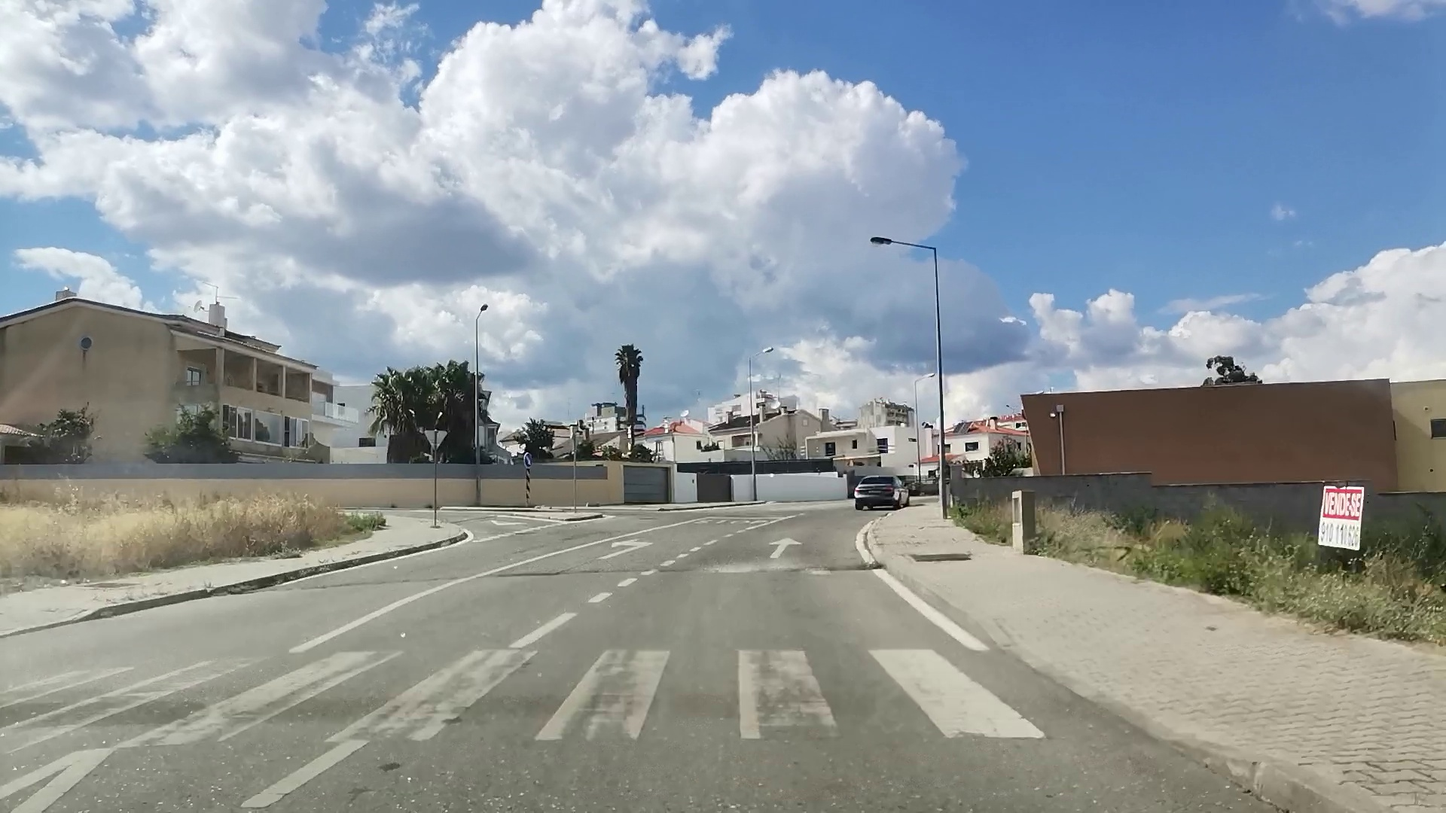Stairs: (0, 650, 1049, 741)
